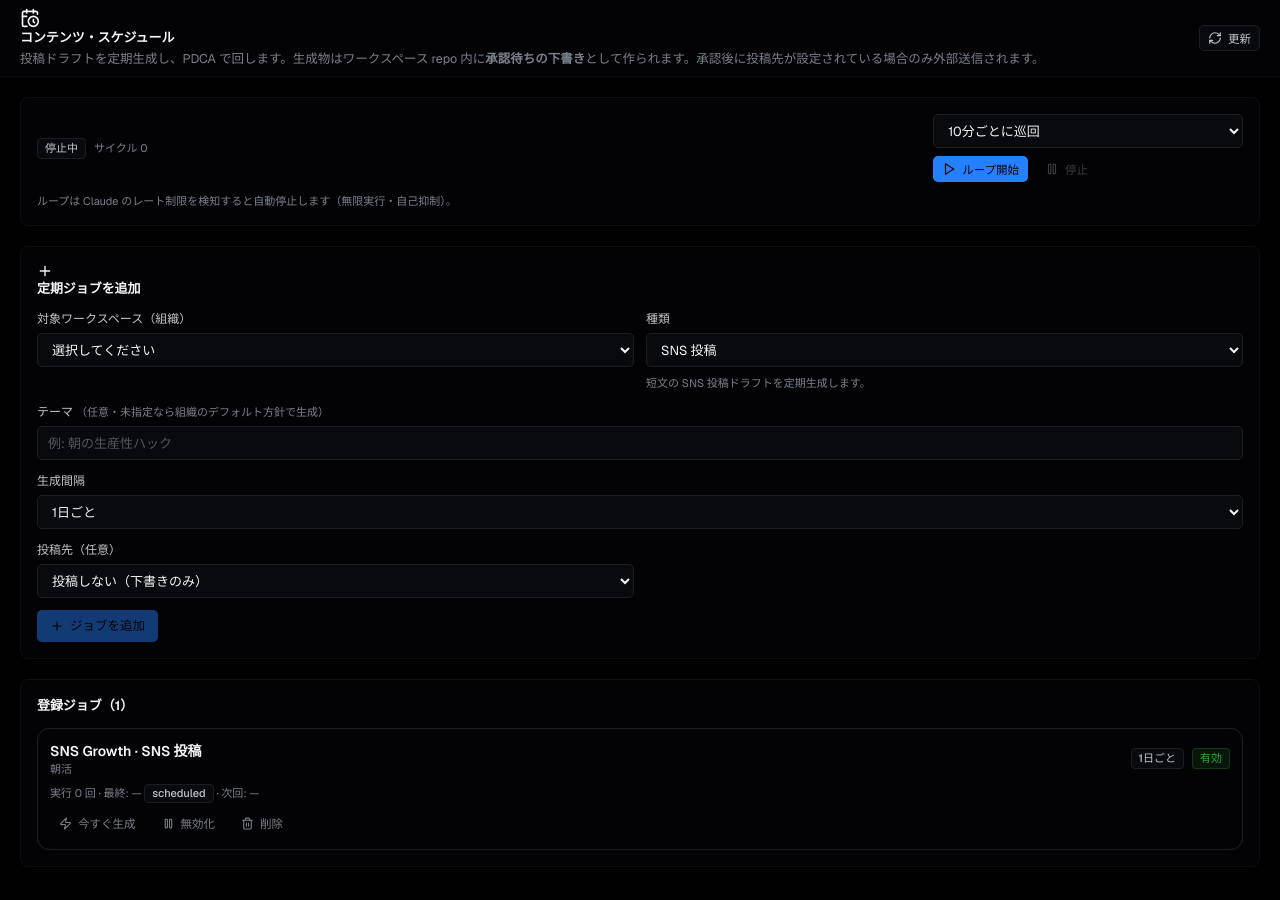
Test: shows a confirmation dialog before deleting a job
The width and height of the screenshot is (1280, 900).
Expected: the text "SNS Growth · SNS 投稿" is shown, [50,741,202,762]
Click the button "削除": click(262, 824) [232,811,292,837]
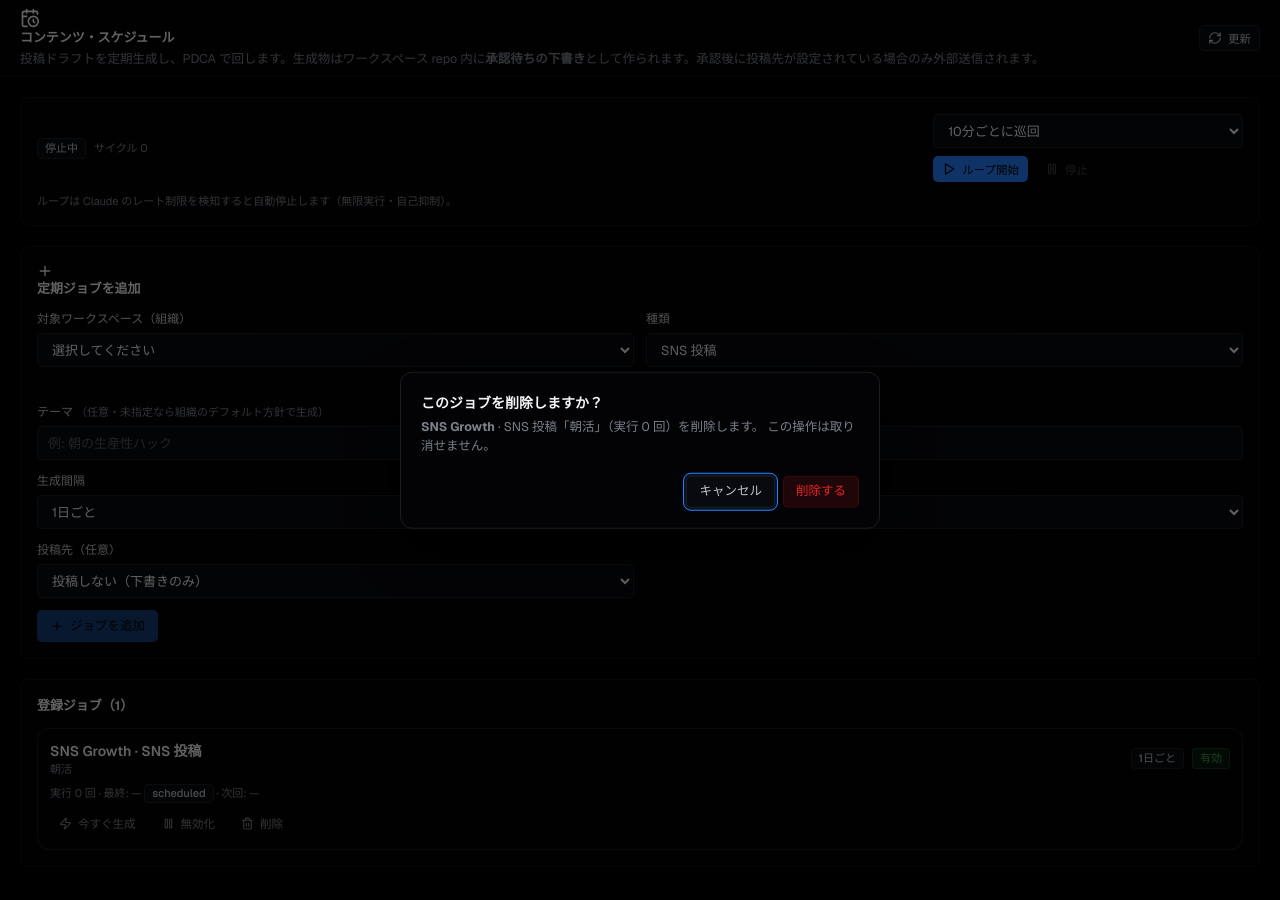
Expected: the dialog is shown, [400,372,880,528]
Expected: the heading "このジョブを削除しますか？" is shown, [421,394,603,412]
Expected: the button "削除する" is shown, [783,475,859,507]
